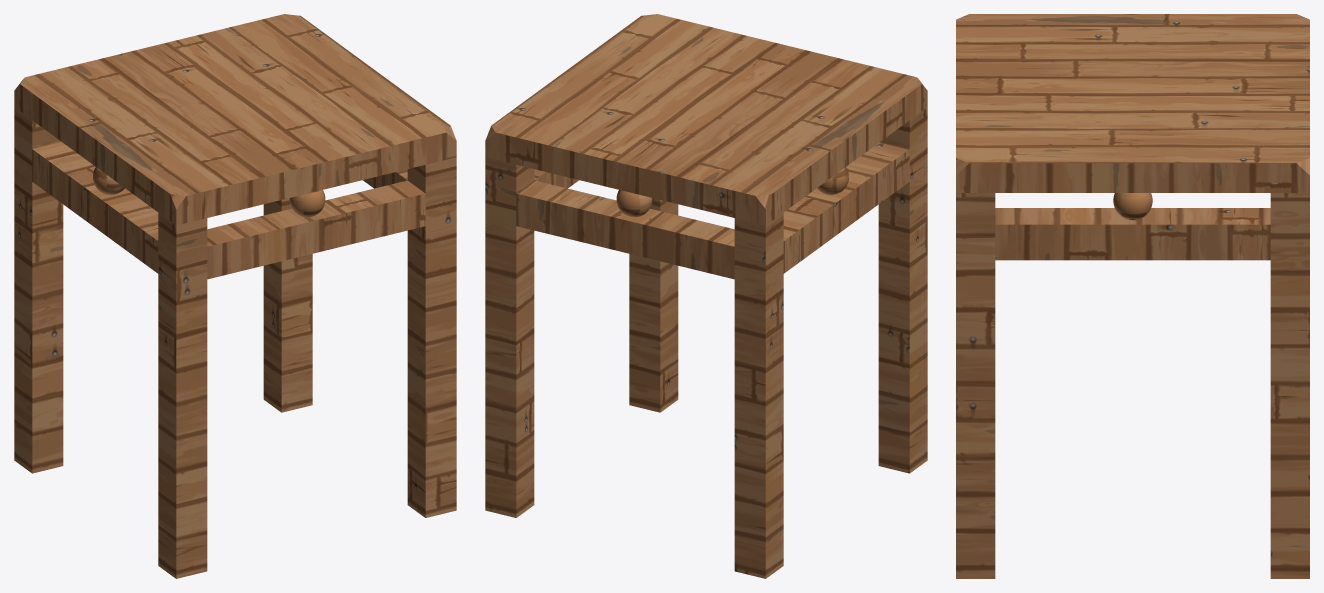
File: Tabouret.glb
3 views of the same model, side by side, from view 1: azimuth 30°, elevation 25°; view 2: azimuth 150°, elevation 25°; view 3: azimuth 270°, elevation 25° (orthographic). The views are drawn at different scales.
Parts seen in each view (by area): view 1: Nouveau4-Tabouret; view 2: Nouveau4-Tabouret; view 3: Nouveau4-Tabouret.
Boxes of the visible parts, x1,y1,x2,y2 form: Nouveau4-Tabouret: (14,14,456,578); Nouveau4-Tabouret: (485,14,927,578); Nouveau4-Tabouret: (956,14,1309,578).
Bounding box in the file's own units: 0.27 × 0.35 × 0.27.
Materials: 1 (1 with a texture image).
